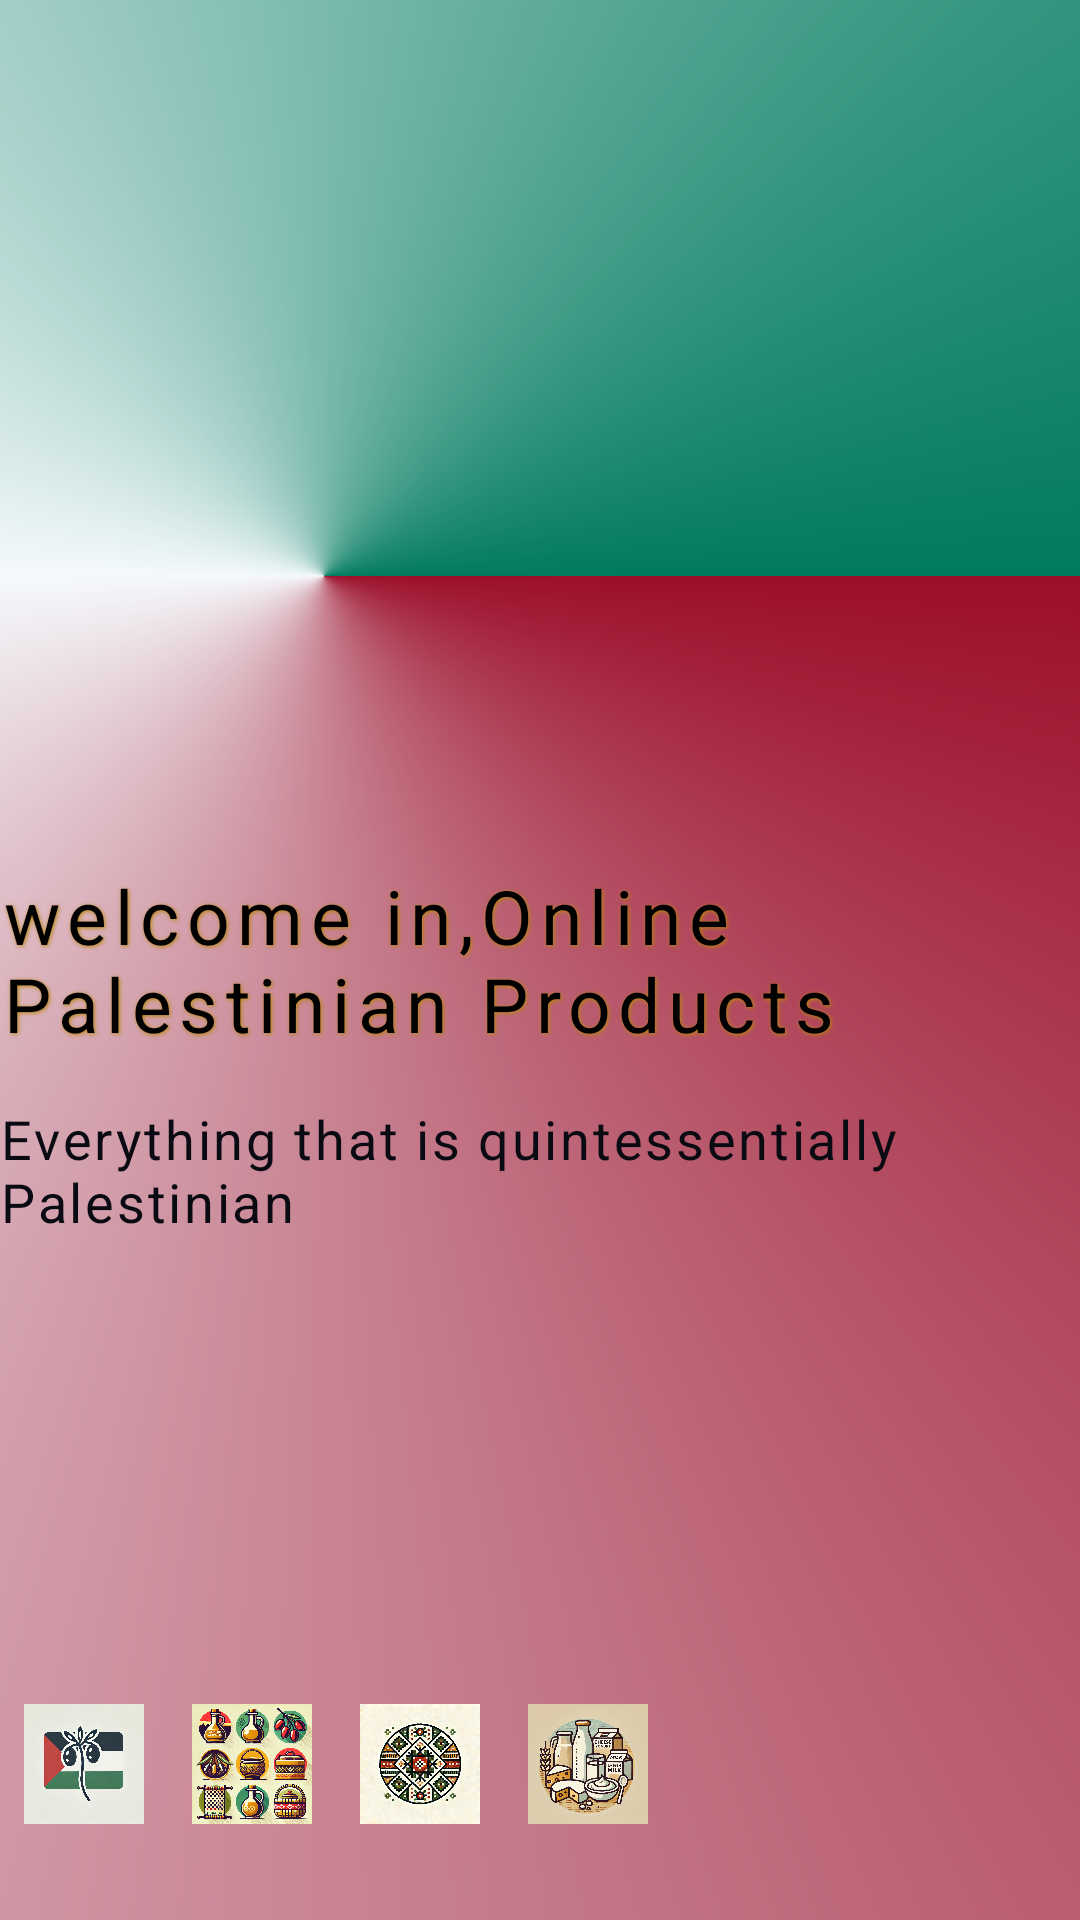

Point at icon controls on the screen. Image size 1080px×1920px, points as (x=x, y=y).
dairy: (x=588, y=1764)
handicraft: (x=420, y=1764)
olive branch: (x=84, y=1764)
palestinian product: (x=252, y=1764)
